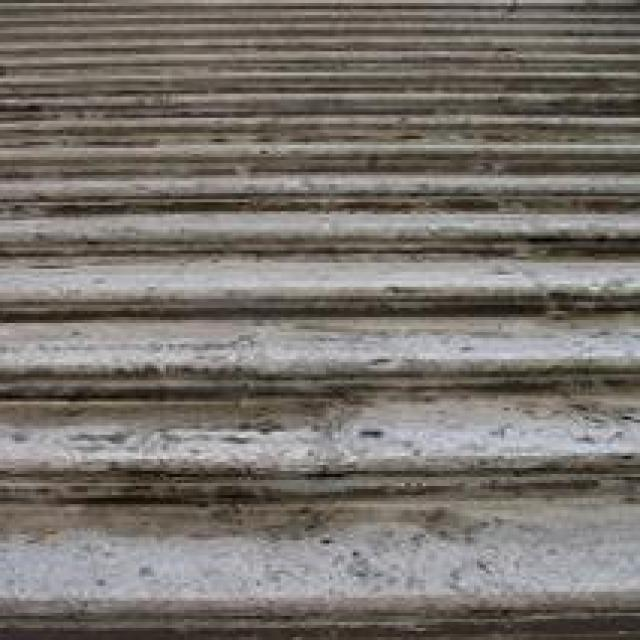upstair: (16, 182, 617, 523)
